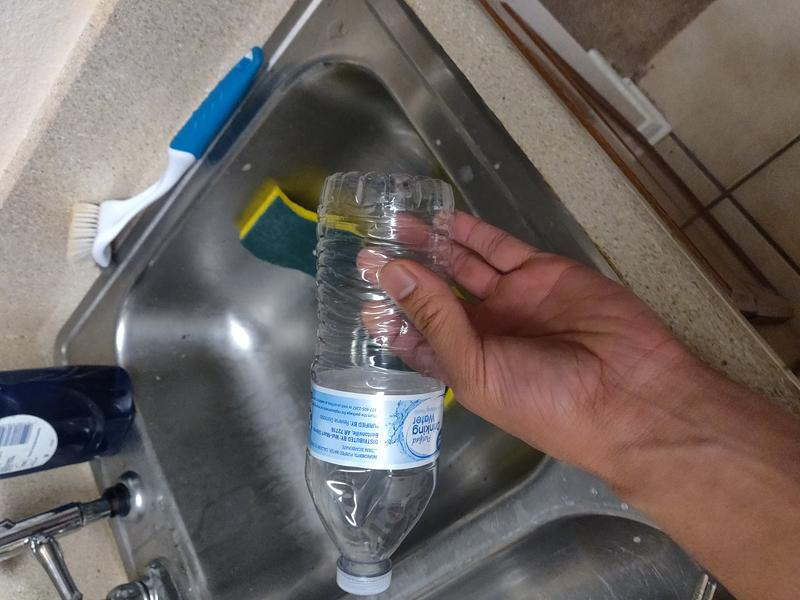bottle: (305, 171, 456, 596)
